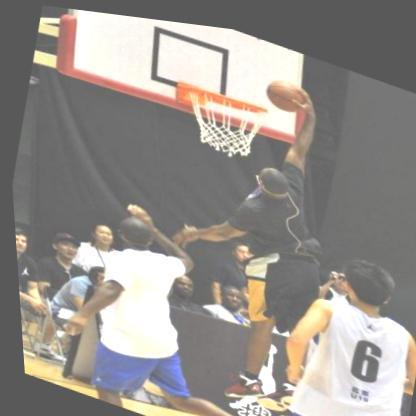basketball: (262, 68, 308, 112)
rim: (168, 73, 274, 163)
